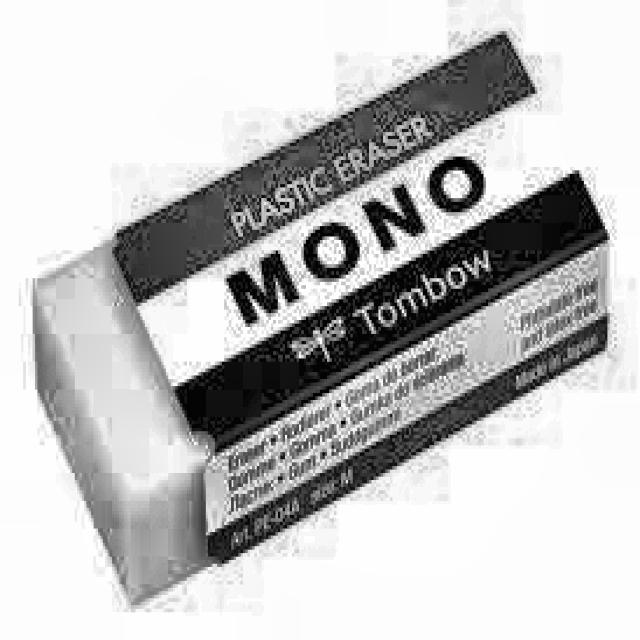eraser: (26, 21, 610, 609)
